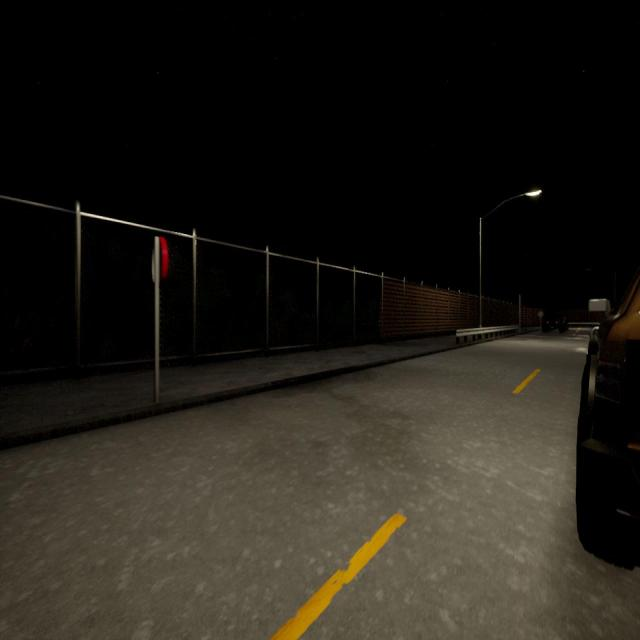Traffic_Signs: (152, 236, 169, 283), (538, 311, 544, 318)
Vehicle: (576, 268, 640, 566), (542, 312, 569, 334)
